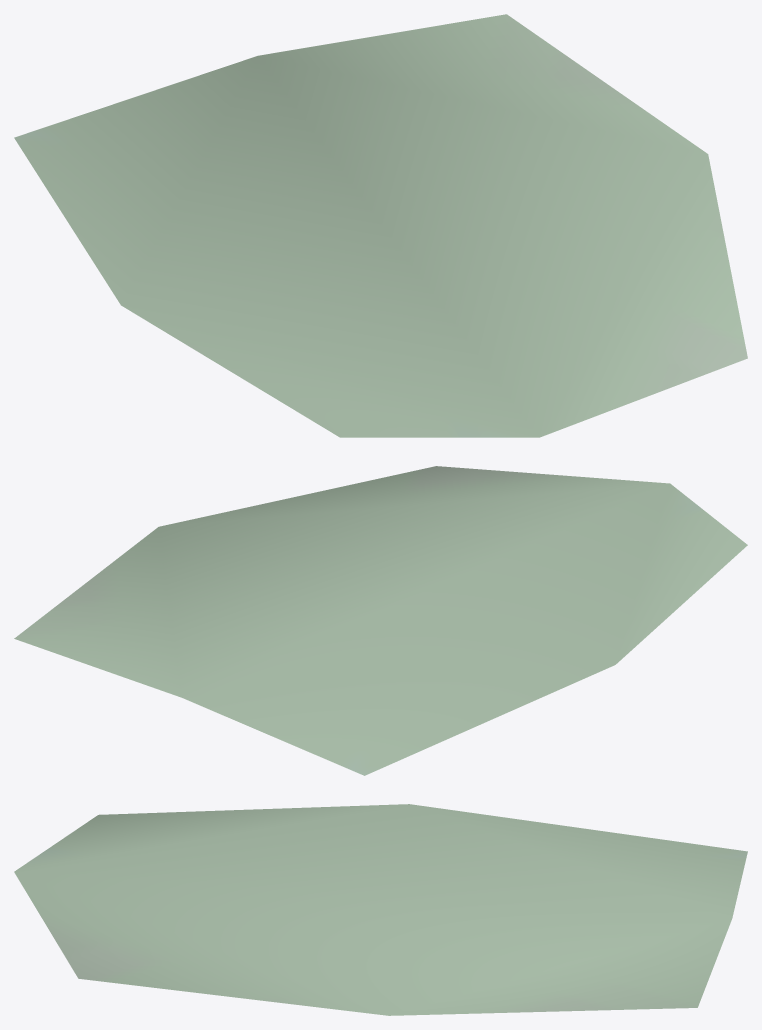
The model's file is TROLLHOLE02_HOLECAP212.fbx.
3 views of the same model, one above another, from view 1: azimuth 30°, elevation 25°; view 2: azimuth 150°, elevation 25°; view 3: azimuth 270°, elevation 25° (orthographic). The views are drawn at different scales.
Visible parts, largest first — view 1: TROLLHOLE02_HOLECAP212; view 2: TROLLHOLE02_HOLECAP212; view 3: TROLLHOLE02_HOLECAP212.
Part boxes in pixels (x1,y1,x2,y2): TROLLHOLE02_HOLECAP212: (14,14,747,437); TROLLHOLE02_HOLECAP212: (14,466,747,775); TROLLHOLE02_HOLECAP212: (14,804,747,1015).
Bounding box in the file's own units: 11152 × 618 × 15148.
1 material, 1 textured.
